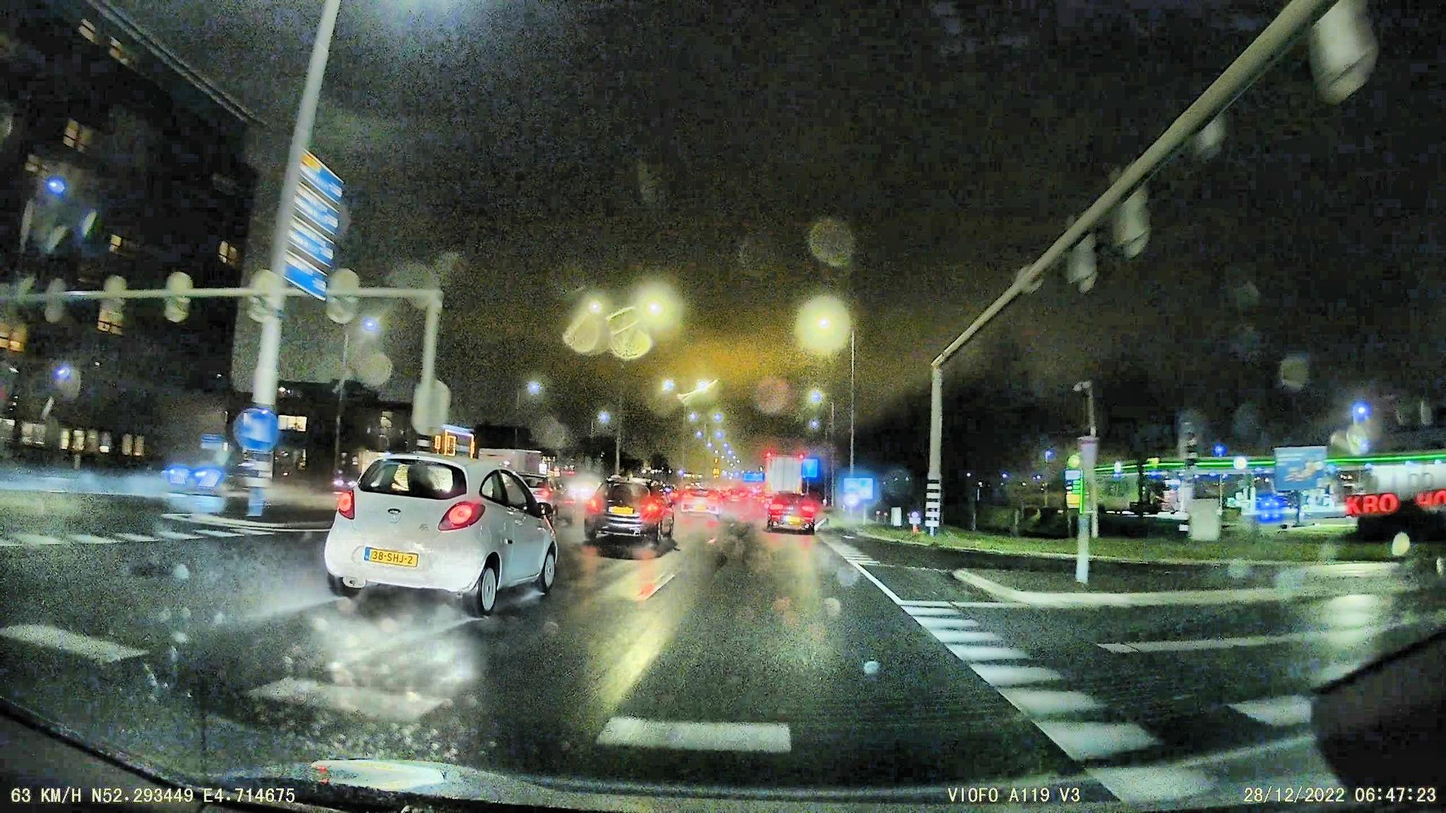Roads: (0, 493, 1374, 795)
